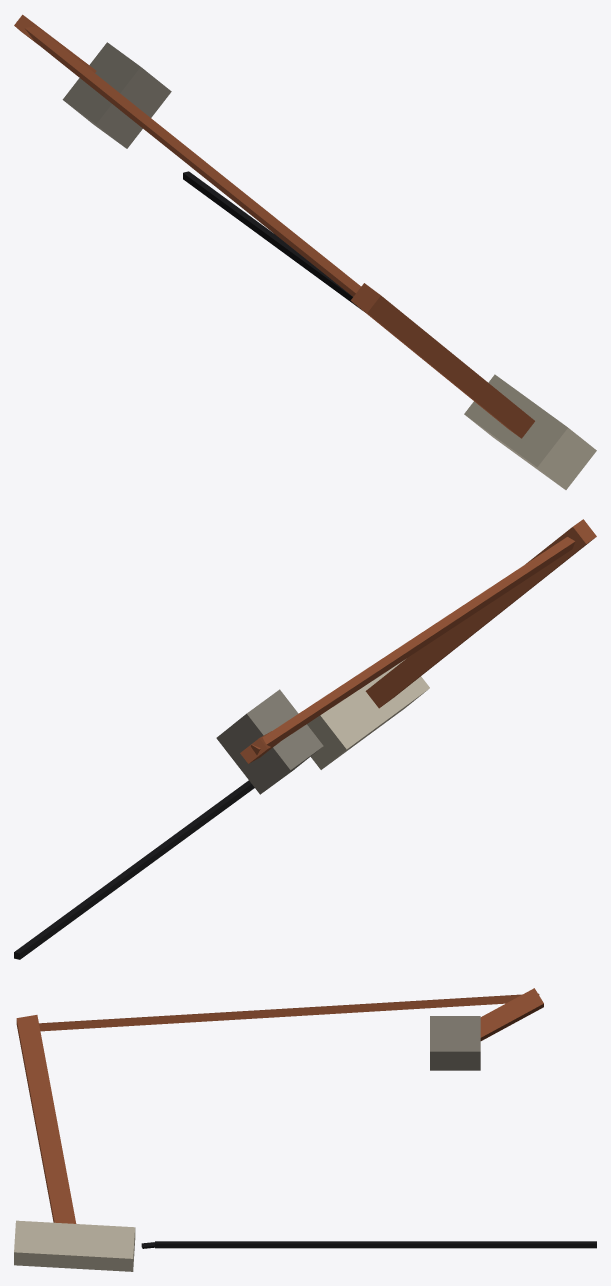
3 views of the same model, one above another, from view 1: azimuth 30°, elevation 25°; view 2: azimuth 150°, elevation 25°; view 3: azimuth 270°, elevation 25° (orthographic). The views are drawn at different scales.
Parts seen in each view (by area): view 1: t00_g29_p8; view 2: t00_g29_p8; view 3: t00_g29_p8.
Part boxes in pixels (<box>): t00_g29_p8: <box>14,14,596,489</box>; t00_g29_p8: <box>14,519,596,959</box>; t00_g29_p8: <box>14,988,596,1271</box>.
Size of the model in its own units: 10.02 by 10.92 by 27.6.
